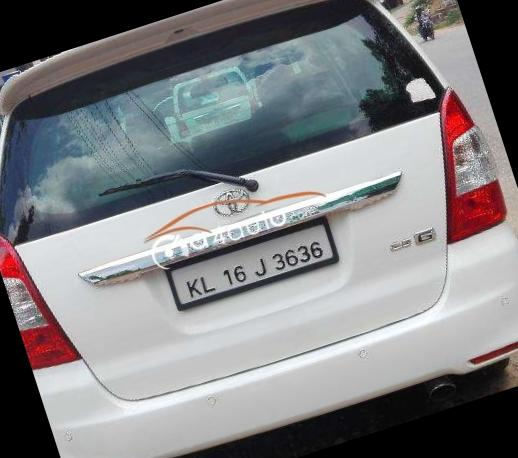plate: (159, 201, 356, 326)
